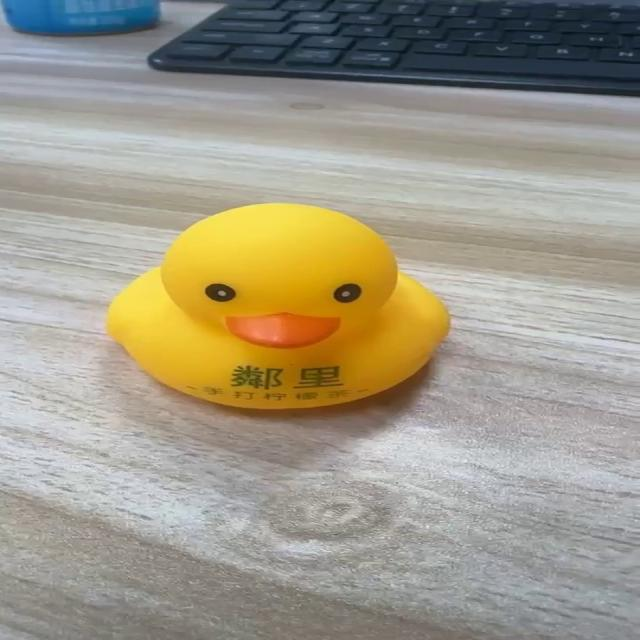yellow_duck: (103, 200, 452, 410)
